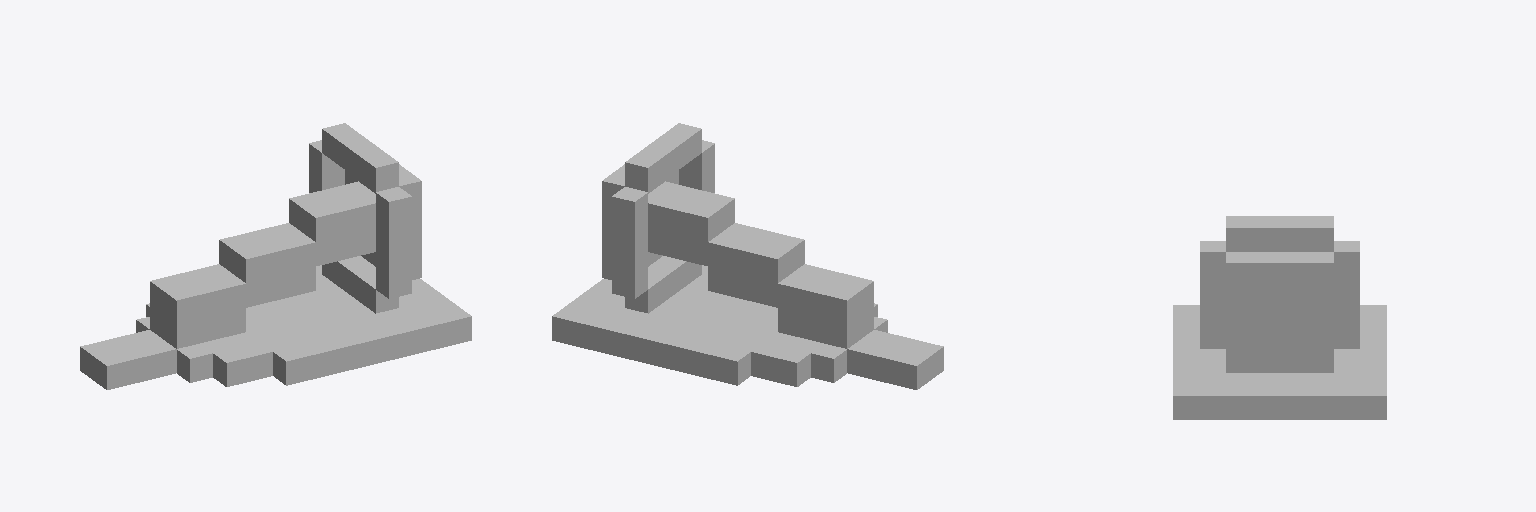
File: hardcook_cutting_board_with_mushroom.obj
3 views of the same model, side by side, from view 1: azimuth 30°, elevation 25°; view 2: azimuth 150°, elevation 25°; view 3: azimuth 270°, elevation 25° (orthographic).
Visible parts, largest first — view 1: node_0_0_0.002, node_0_0_0; view 2: node_0_0_0.002, node_0_0_0; view 3: node_0_0_0.002, node_0_0_0.
Part boxes in pixels (x1,y1,x2,y2): node_0_0_0.002: (150, 123, 421, 348); node_0_0_0: (80, 265, 471, 389); node_0_0_0.002: (602, 123, 873, 348); node_0_0_0: (552, 265, 943, 389); node_0_0_0.002: (1200, 216, 1359, 372); node_0_0_0: (1173, 305, 1386, 419).
Bounding box in the file's own units: 0.875 × 0.4375 × 0.5.